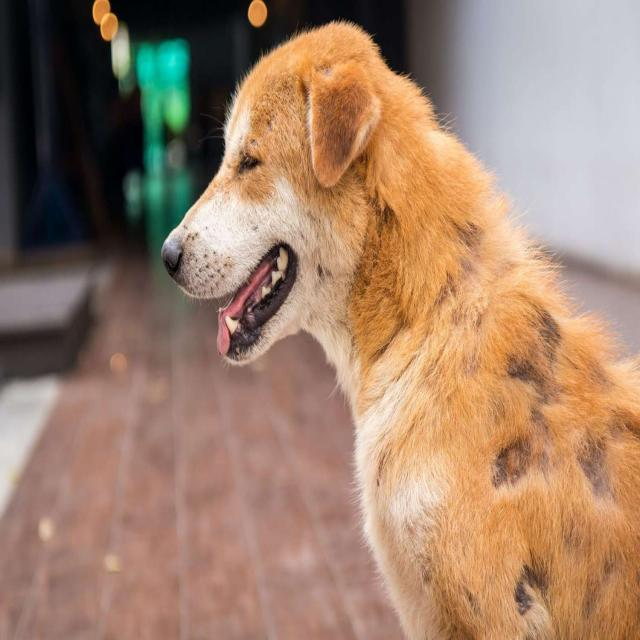mange: (359, 231, 639, 639)
